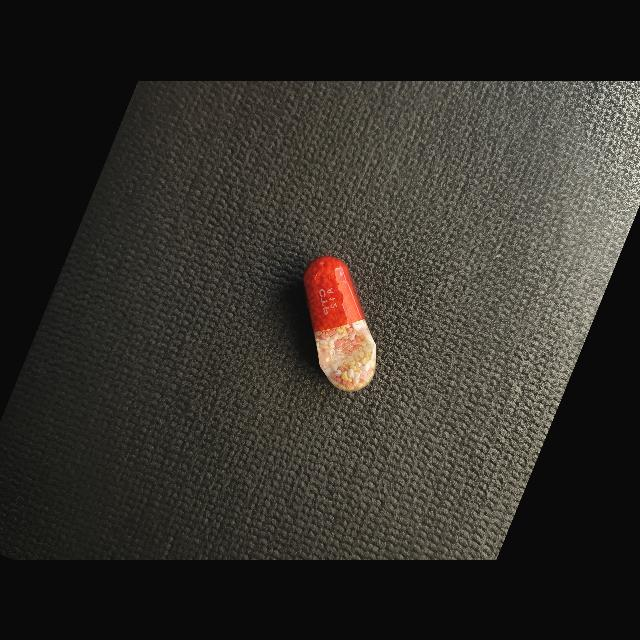Defective Capsule: (304, 256, 376, 391)
